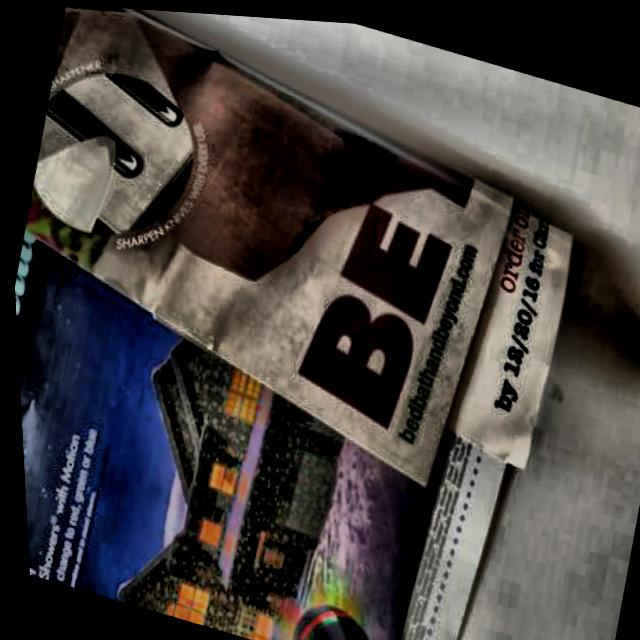Paper: (0, 0, 625, 640)
